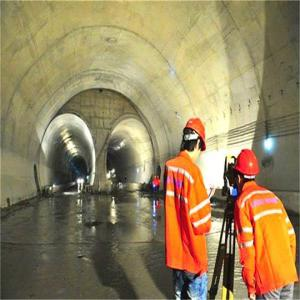red: (235, 149, 261, 193), (184, 119, 206, 159)
